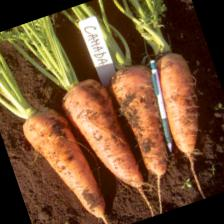carrot: (17, 97, 110, 224), (56, 72, 146, 202), (105, 58, 186, 182), (147, 48, 216, 158)
